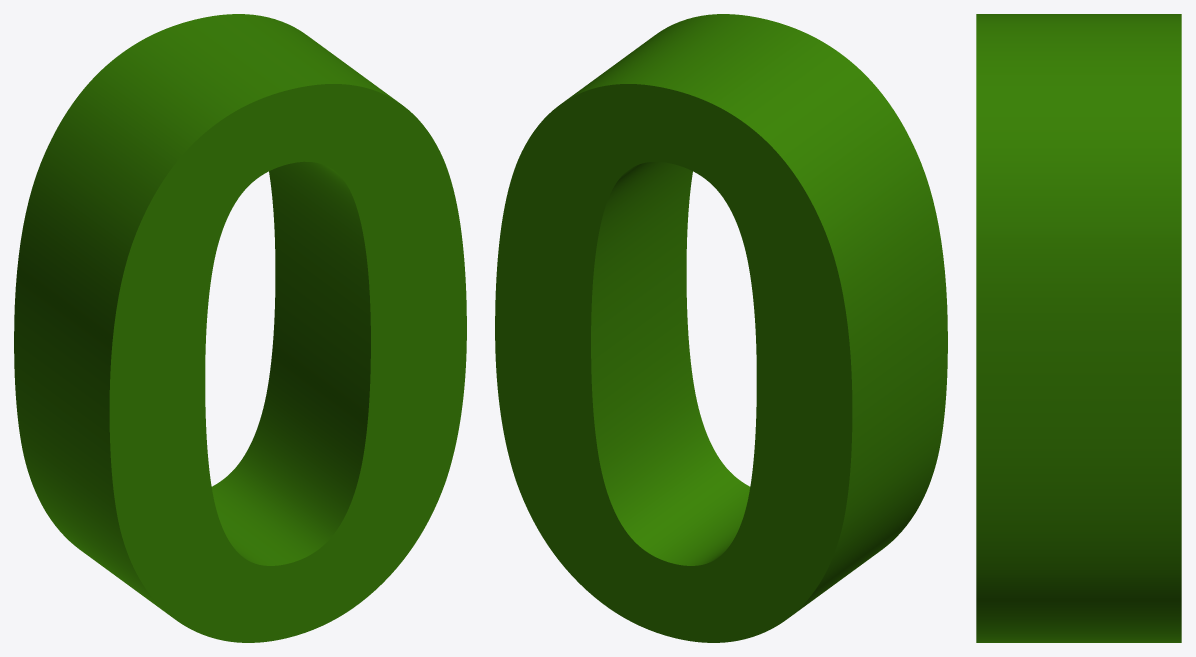
3 views of the same model, side by side, from view 1: azimuth 30°, elevation 25°; view 2: azimuth 150°, elevation 25°; view 3: azimuth 270°, elevation 25° (orthographic). The views are drawn at different scales.
Parts seen in each view (by area): view 1: テキスト; view 2: テキスト; view 3: テキスト.
Boxes of the visible parts, box(x1,y1,x2,y2) form: テキスト: box(14, 14, 466, 642); テキスト: box(495, 14, 947, 642); テキスト: box(976, 14, 1181, 642).
Size of the model in its own units: 0.4321 by 0.6329 by 0.2.
